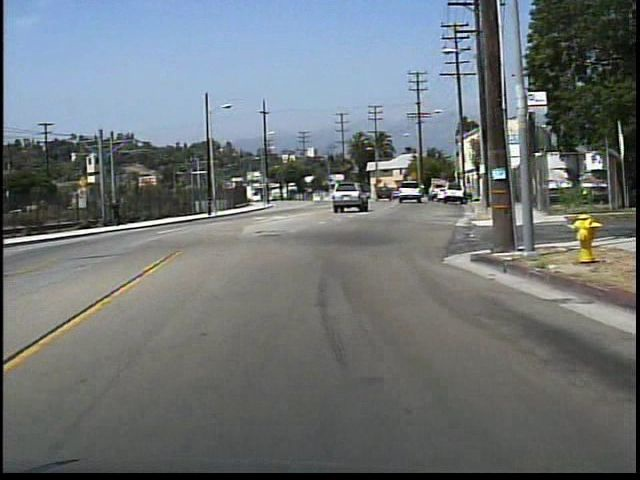person: (112, 196, 126, 228)
